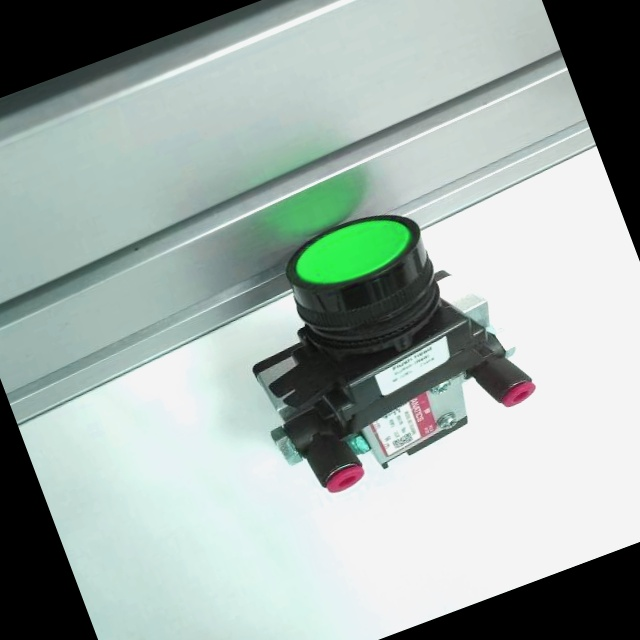push button: (209, 178, 548, 507)
